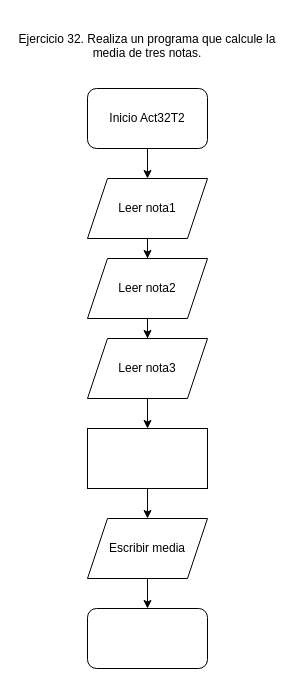
The diagram is 294 pixels wide and 686 high, and some of its shapes have lost their labels. Each missing label, with the centre of its shape:
"Fin Act32T2" belongs at point 147,638.
"media = (nota1 + nota2 + nota3+)/3" belongs at point 147,458.
